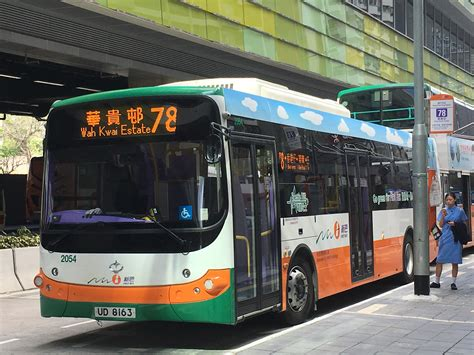bus: (39, 81, 441, 325)
person: (435, 192, 465, 289)
